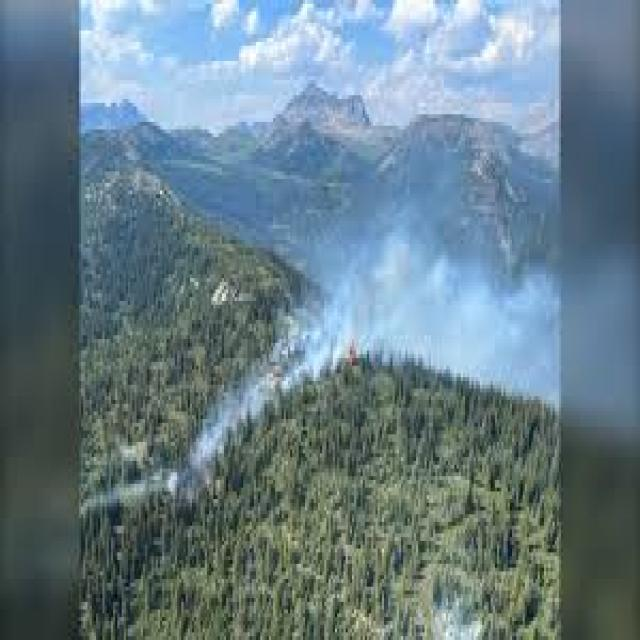Smoke: (273, 242, 567, 398), (195, 361, 278, 471), (90, 442, 192, 514)
